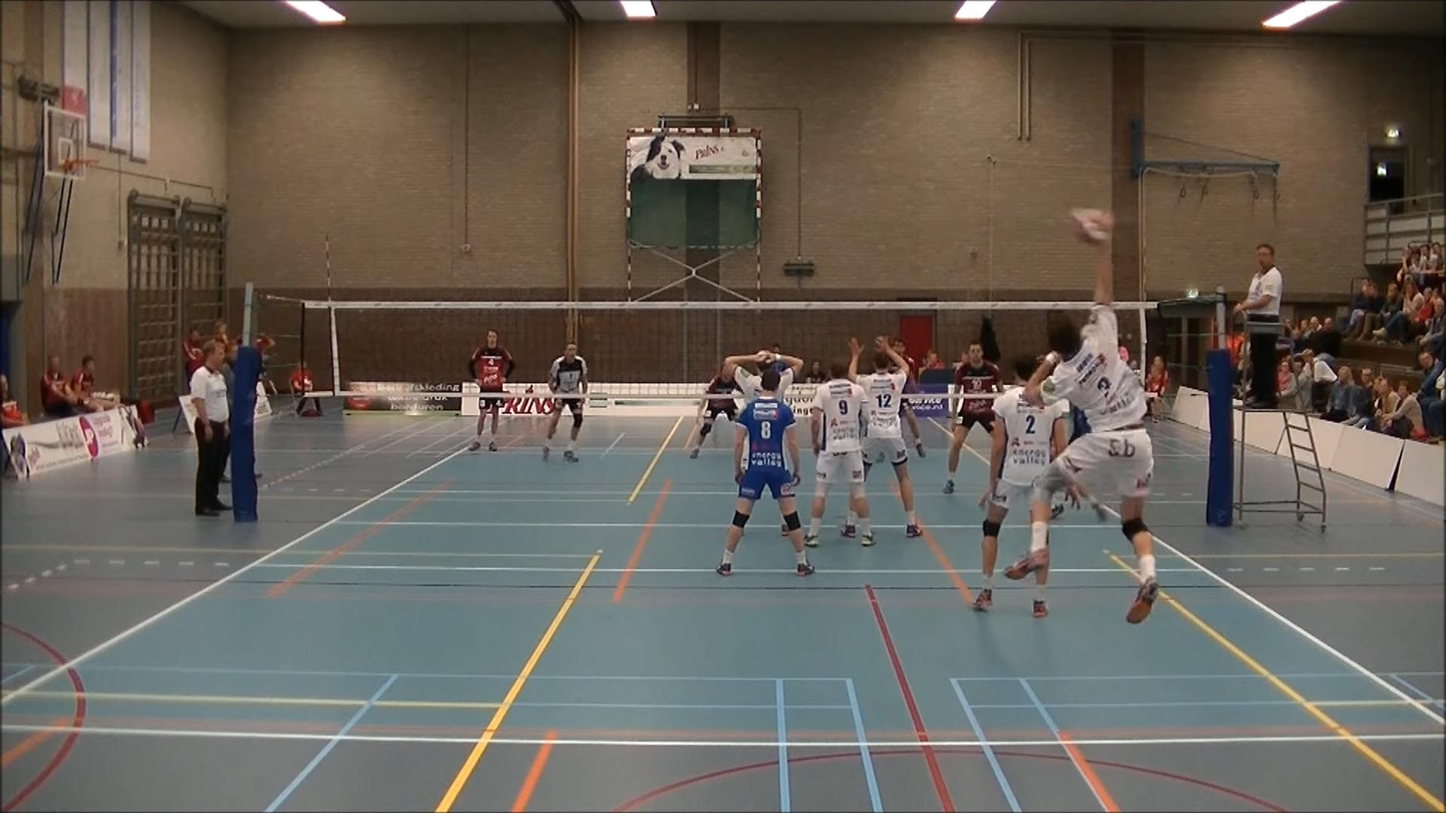battuta: (995, 234, 1167, 626)
